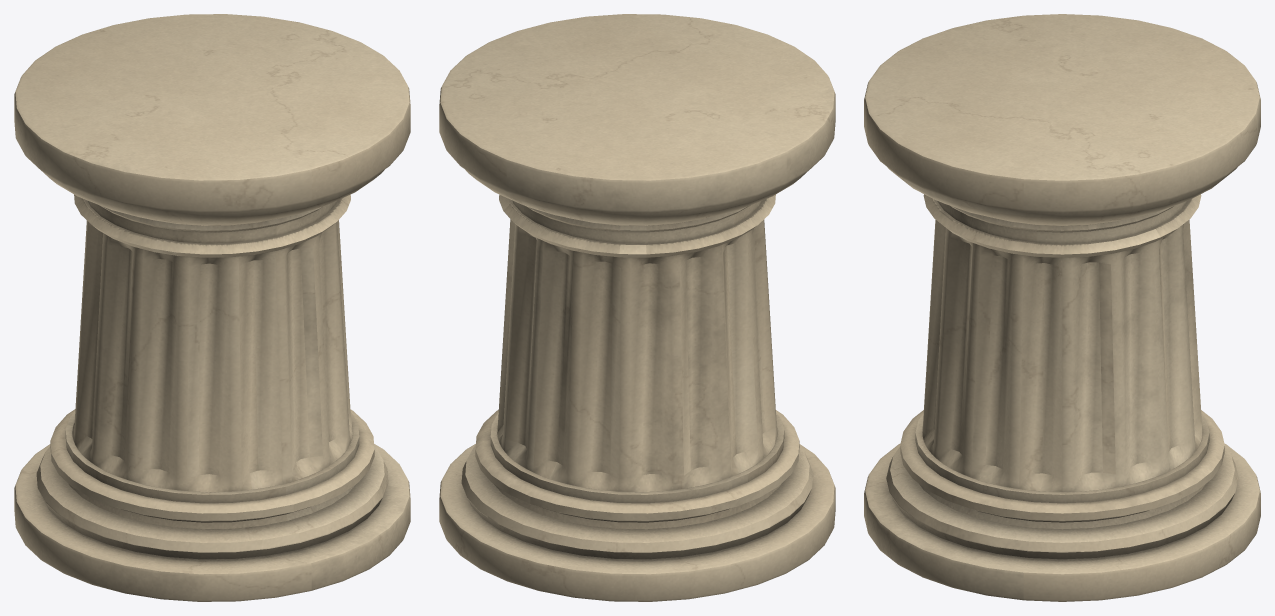
Rendered from GreekPedestal.glb.
3 renders of one model, left to right at view 1: azimuth 30°, elevation 25°; view 2: azimuth 150°, elevation 25°; view 3: azimuth 270°, elevation 25°, orthographic.
Parts seen in each view (by area): view 1: GreekPedestal; view 2: GreekPedestal; view 3: GreekPedestal.
Part boxes in pixels (left/top/right/bottom): GreekPedestal: left=14, top=14, right=410, bottom=601; GreekPedestal: left=439, top=14, right=835, bottom=601; GreekPedestal: left=864, top=14, right=1260, bottom=601.
Size of the model in its own units: 1.7 by 2 by 1.7.
Materials: 1 (1 with a texture image).
